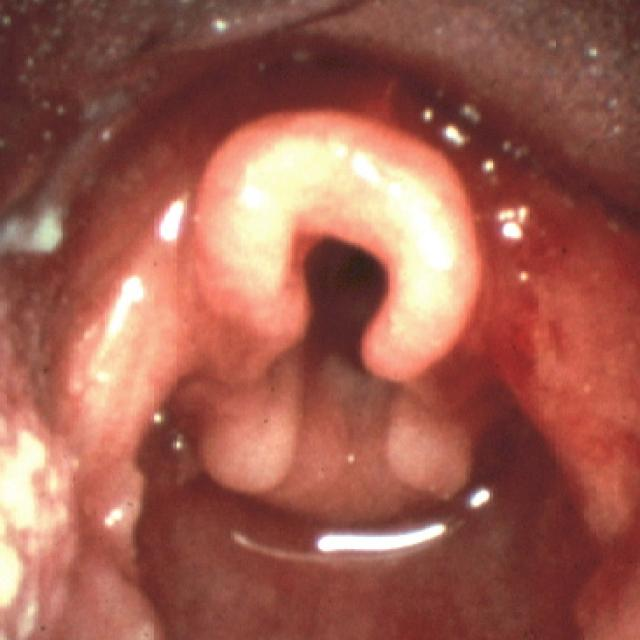arytenoid cartilagerotation: (199, 388, 475, 498)
epiglottisrotation: (192, 105, 477, 382)
